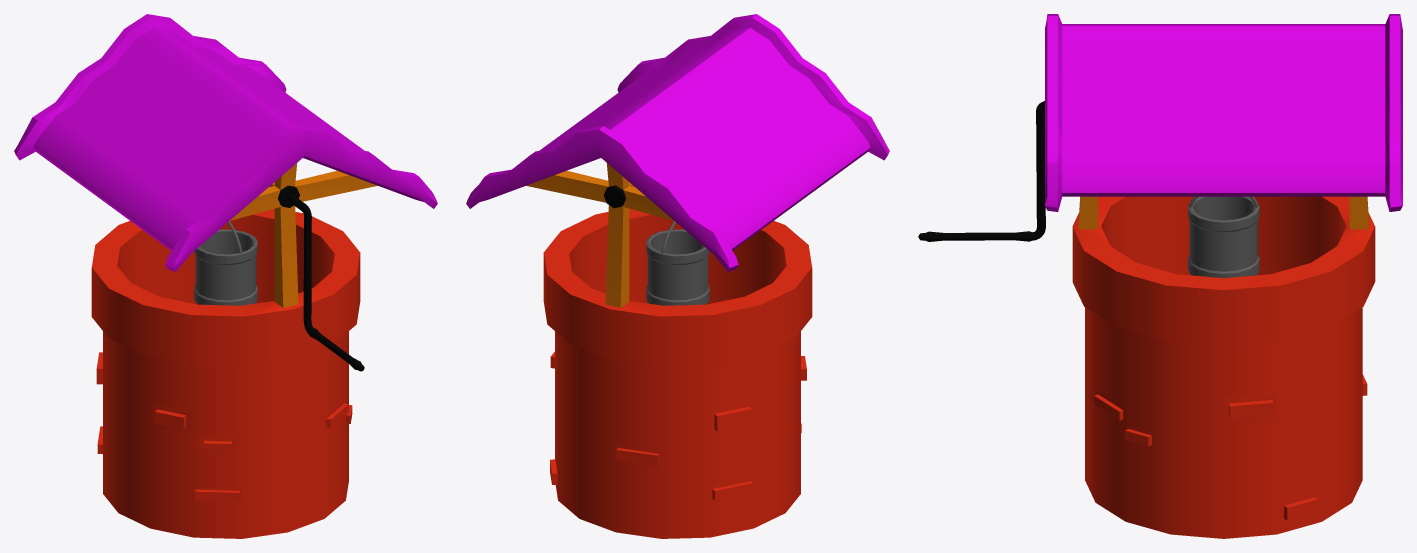
Rendered from Put.fbx.
3 renders of one model, left to right at view 1: azimuth 30°, elevation 25°; view 2: azimuth 150°, elevation 25°; view 3: azimuth 270°, elevation 25°, orthographic. The views are drawn at different scales.
Parts seen in each view (by area): view 1: Pit; view 2: Pit; view 3: Pit.
Part boxes in pixels (x1=…): Pit: x1=14, y1=14, x2=437, y2=538; Pit: x1=466, y1=14, x2=889, y2=538; Pit: x1=918, y1=14, x2=1402, y2=538.
Size of the model in its own units: 1.26 by 1.84 by 1.75.
